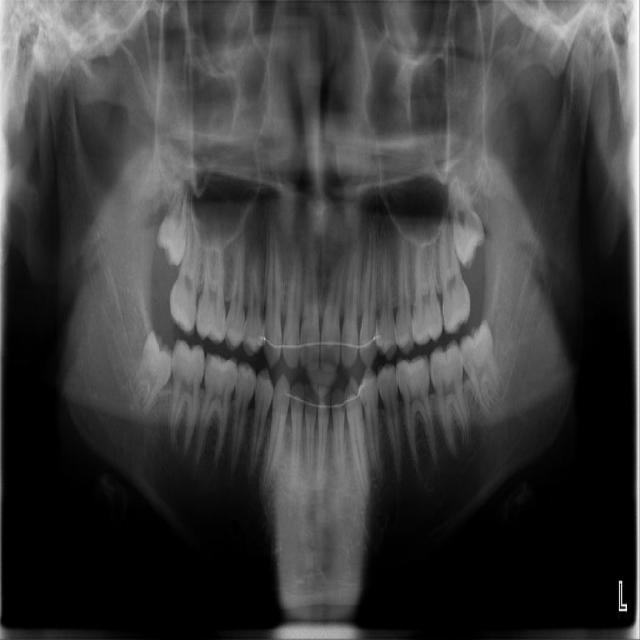3M ESPE Implant: (152, 154, 198, 269)
52: (201, 352, 240, 400)
BioHorizons Implant: (435, 205, 472, 335)
BioLife Implant: (446, 168, 489, 272)
Biomet 3i Implant: (453, 317, 509, 421)
Blue Sky Bio Implant: (424, 338, 482, 458)
Caries: (166, 211, 206, 336)
Implant: (165, 337, 207, 461)
Keystone Dental Implant: (122, 327, 184, 418)
